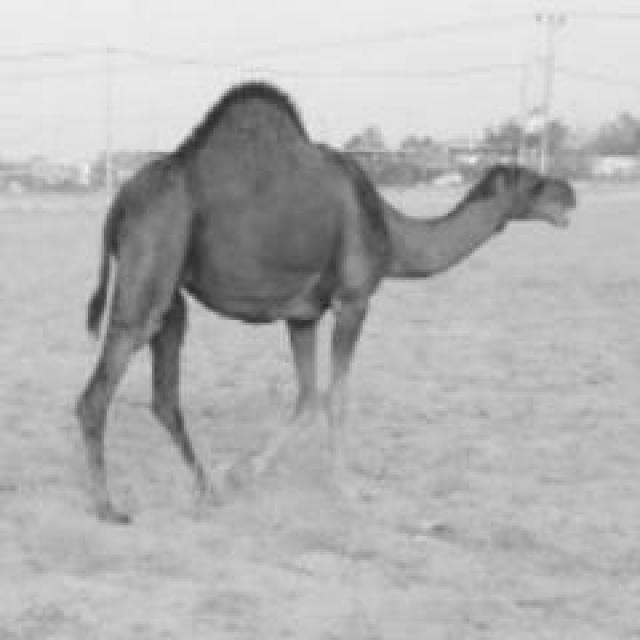Camel: (72, 78, 576, 526)
